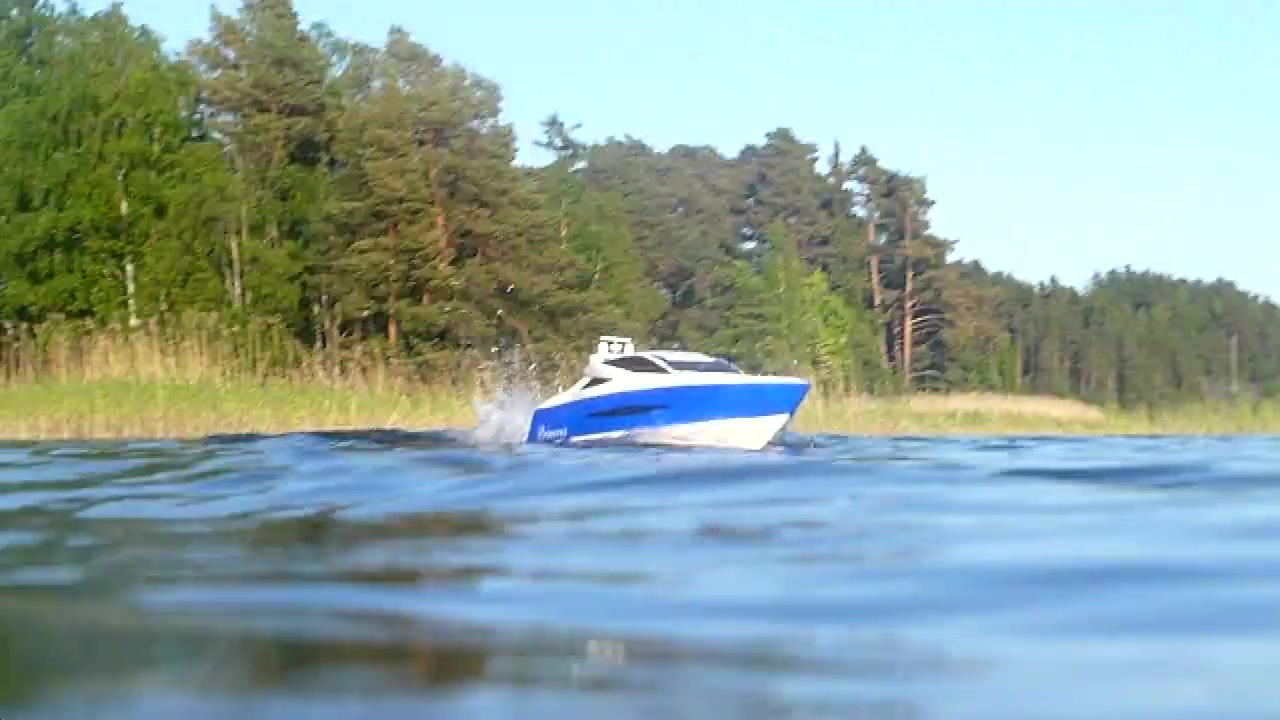boat: (524, 333, 815, 453)
